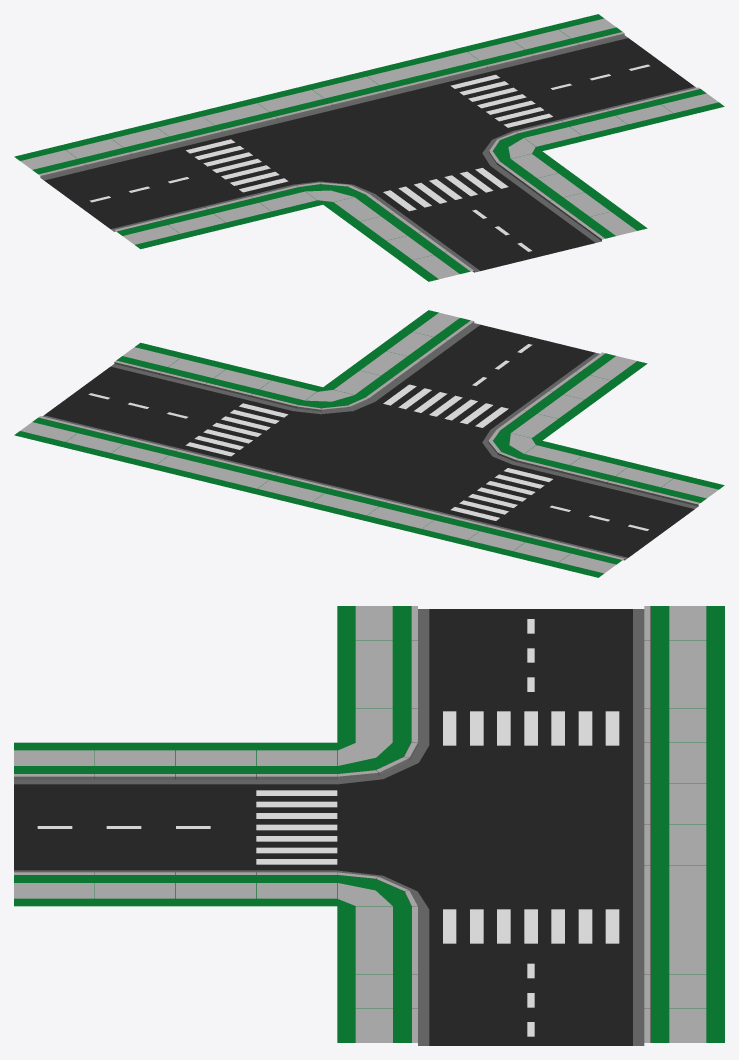
File: Road-T-H.fbx
3 renders of one model, top to bottom at view 1: azimuth 30°, elevation 25°; view 2: azimuth 150°, elevation 25°; view 3: azimuth 270°, elevation 25°, orthographic. The views are drawn at different scales.
Visible parts, largest first — view 1: Road, Sides; view 2: Road, Sides; view 3: Road, Sides.
Part boxes in pixels (x1=…): Road: x1=41, y1=35, x2=696, y2=272; Sides: x1=14, y1=14, x2=724, y2=281; Road: x1=42, y1=323, x2=698, y2=560; Sides: x1=14, y1=310, x2=724, y2=577; Road: x1=14, y1=609, x2=644, y2=1045; Sides: x1=14, y1=606, x2=724, y2=1042.
Size of what is drawn, in the model's own units: 64 by 0.2 by 44.
